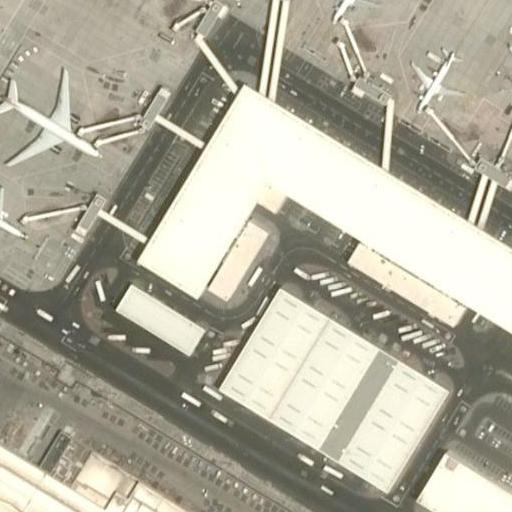Aircraft: (0, 60, 98, 164), (406, 45, 462, 109), (0, 181, 23, 244), (323, 0, 381, 21), (506, 25, 512, 94)
